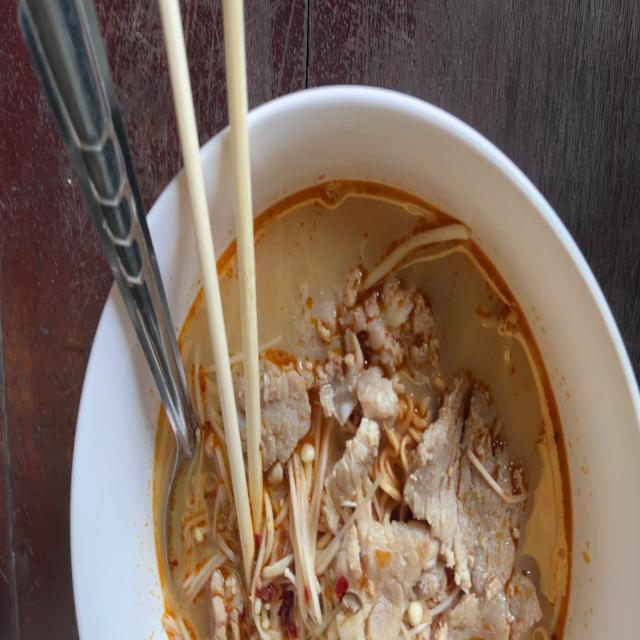noodle: (155, 179, 573, 640)
